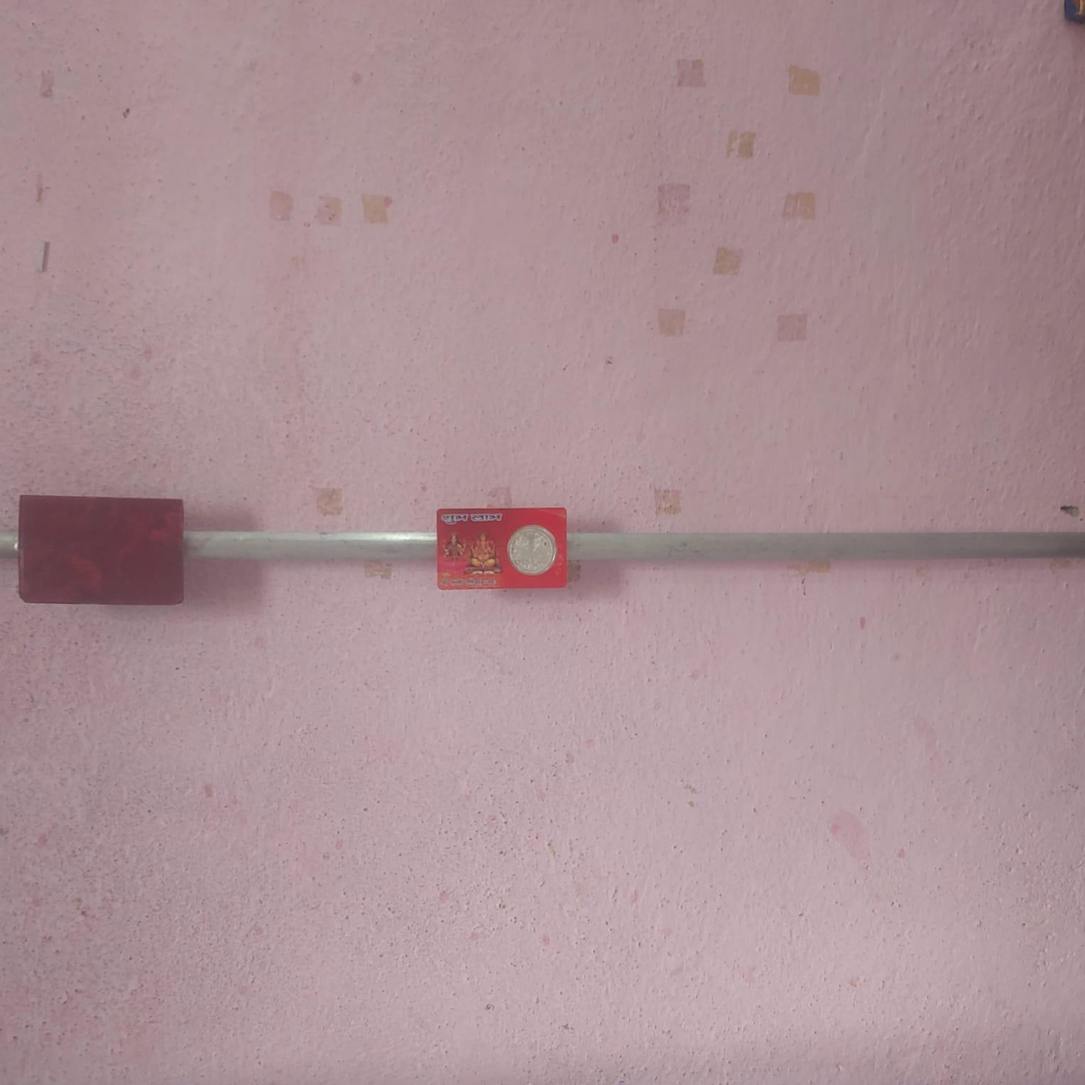blessing_card: (438, 503, 575, 592)
wallet: (14, 490, 192, 609)
